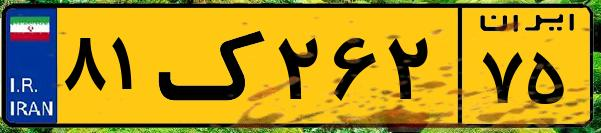1: (110, 28, 158, 98)
2: (270, 28, 330, 110), (385, 28, 445, 110)
5: (525, 38, 570, 115)
6: (330, 28, 385, 110)
7: (475, 38, 525, 113)
8: (57, 26, 110, 100)
ک: (158, 12, 270, 120)
